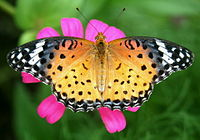Argyreus hyperbius: (3, 4, 195, 111)
butterfly: (5, 6, 197, 113)
